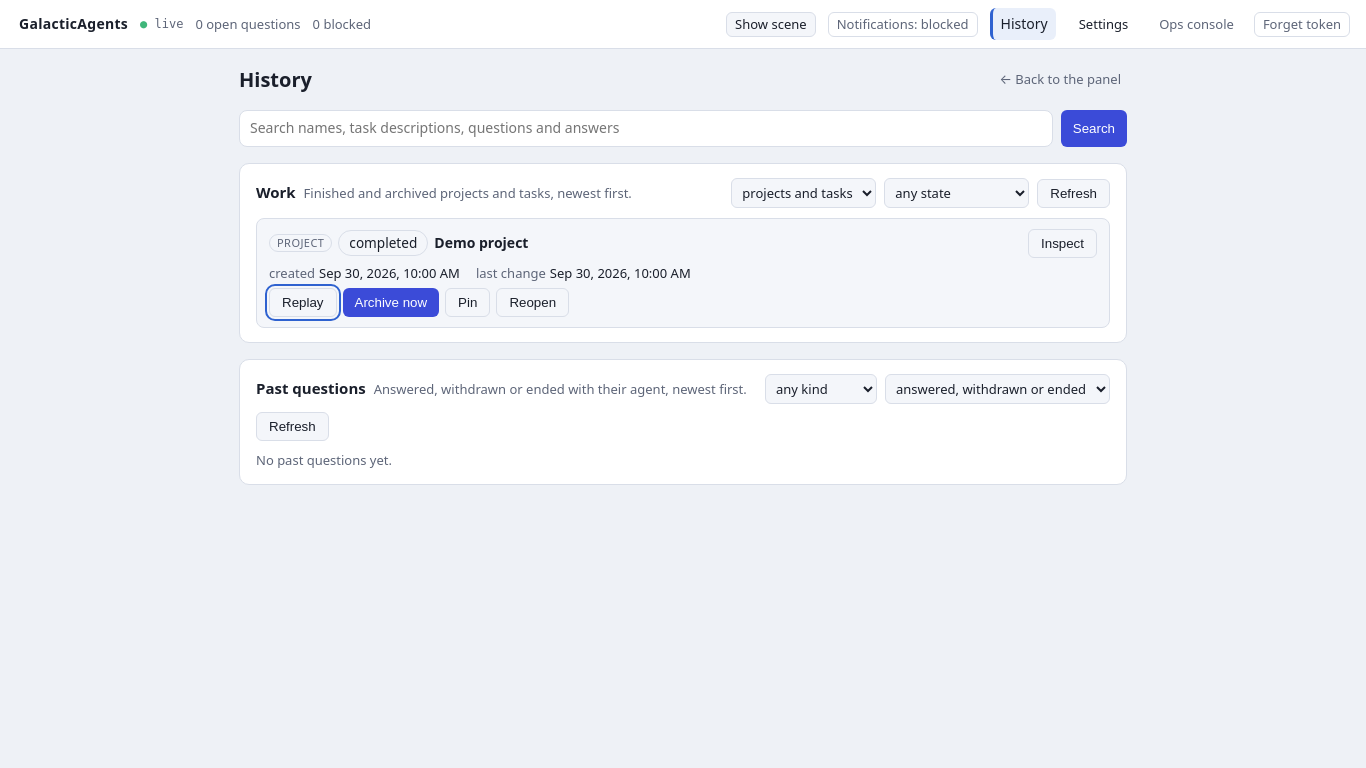
Test: timeline scrubber UI (P4-07) › Replay from history, then Escape: the focus lands on the main heading (P5-04 review)
Step 1. Click the button "Replay" → x=303, y=303, box [269,288,336,317]
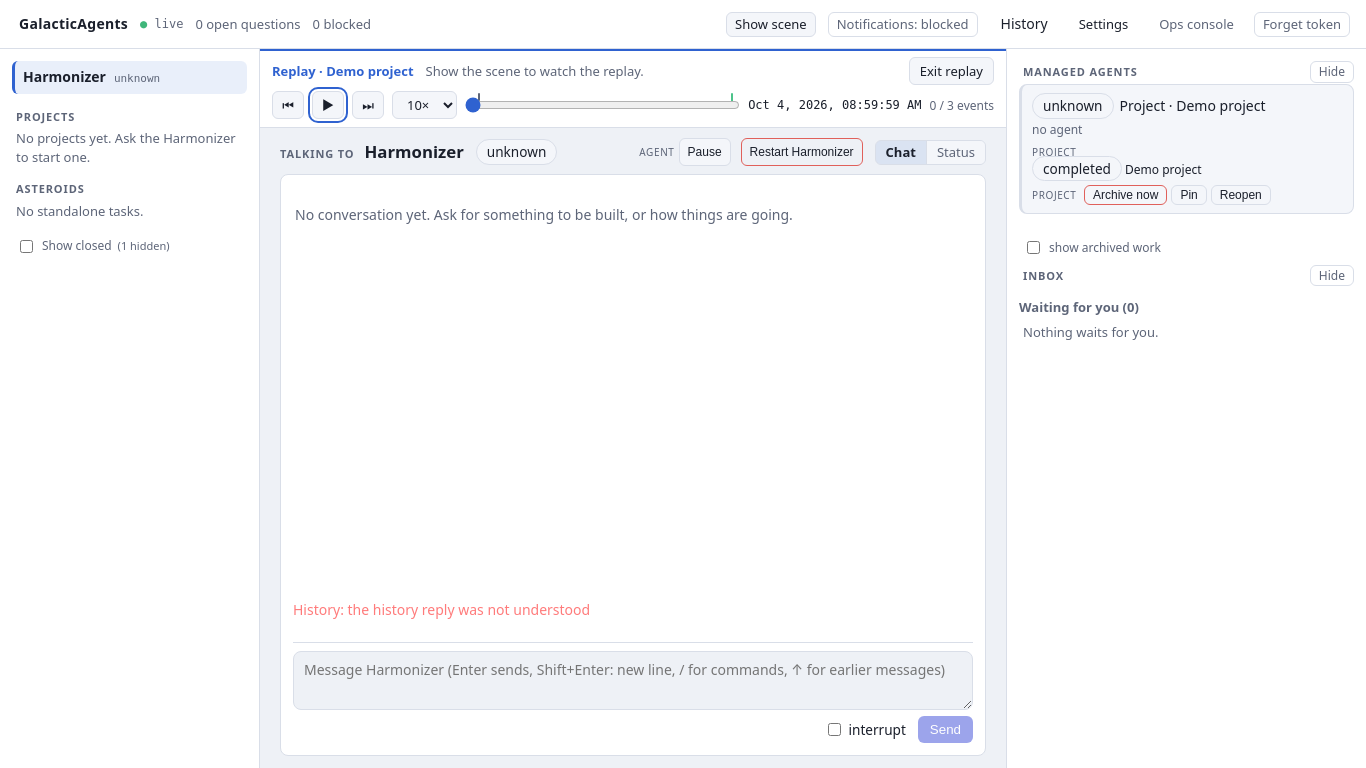
Now the element "Replay · Demo project" is shown, box [260,49,1006,128]
Step 2. Press Escape in the button named "Play", box [312,91,344,119]
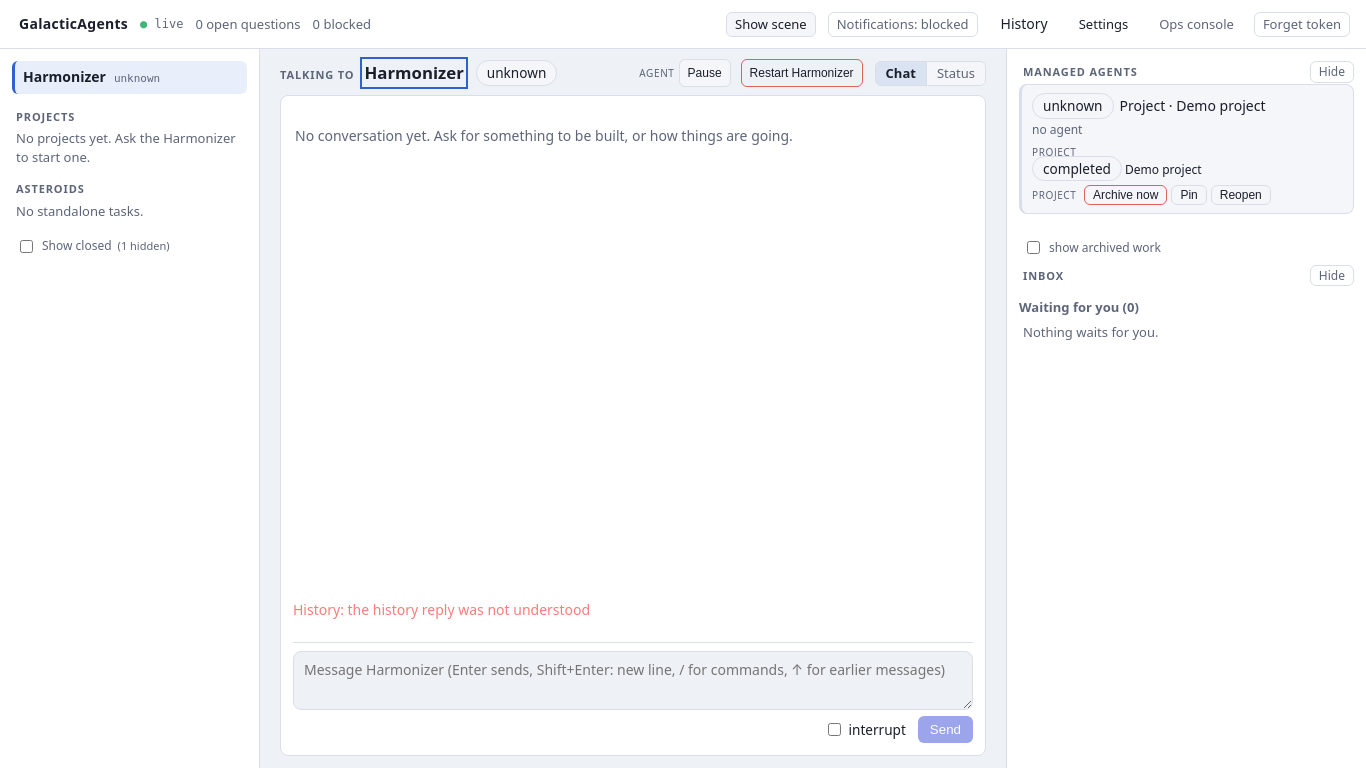
Expected: the heading "Harmonizer" is shown, [364,61,464,85]
Now the text "Replay · Demo project" is gone
